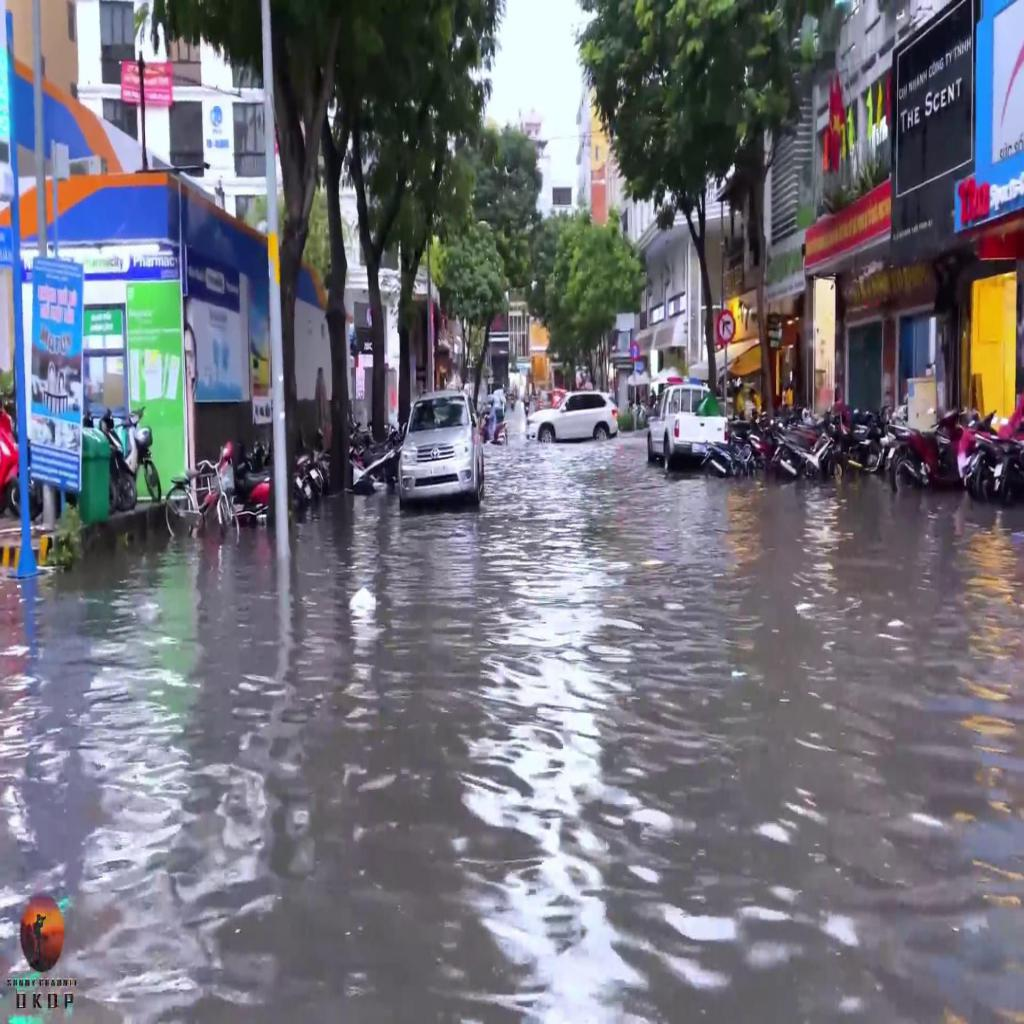cam_do_xe: (630, 342, 640, 362)
cam_re_trai: (716, 309, 736, 344)
